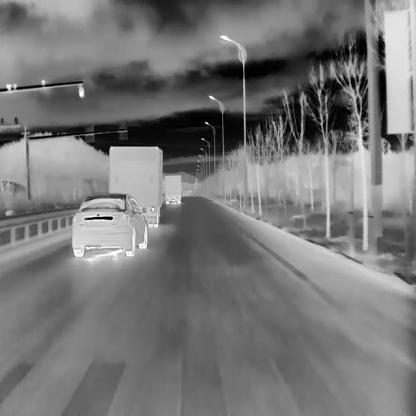car: (71, 192, 148, 256)
truck: (108, 145, 164, 226), (165, 175, 180, 203)
